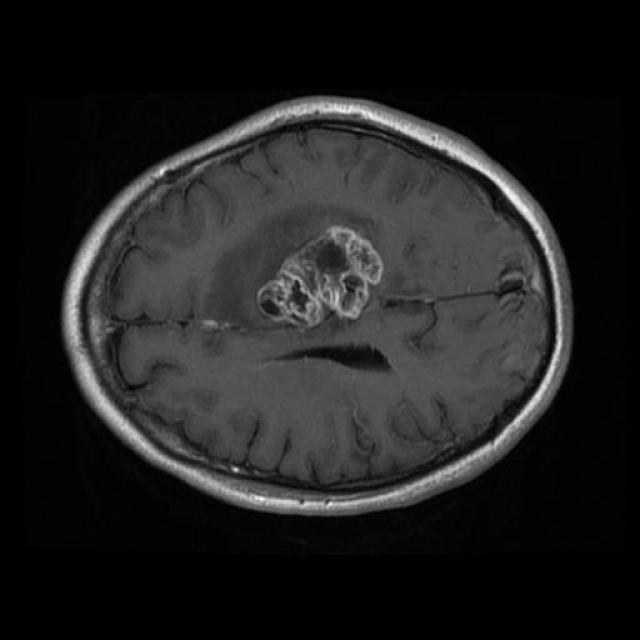Glioma: (257, 226, 382, 327)
